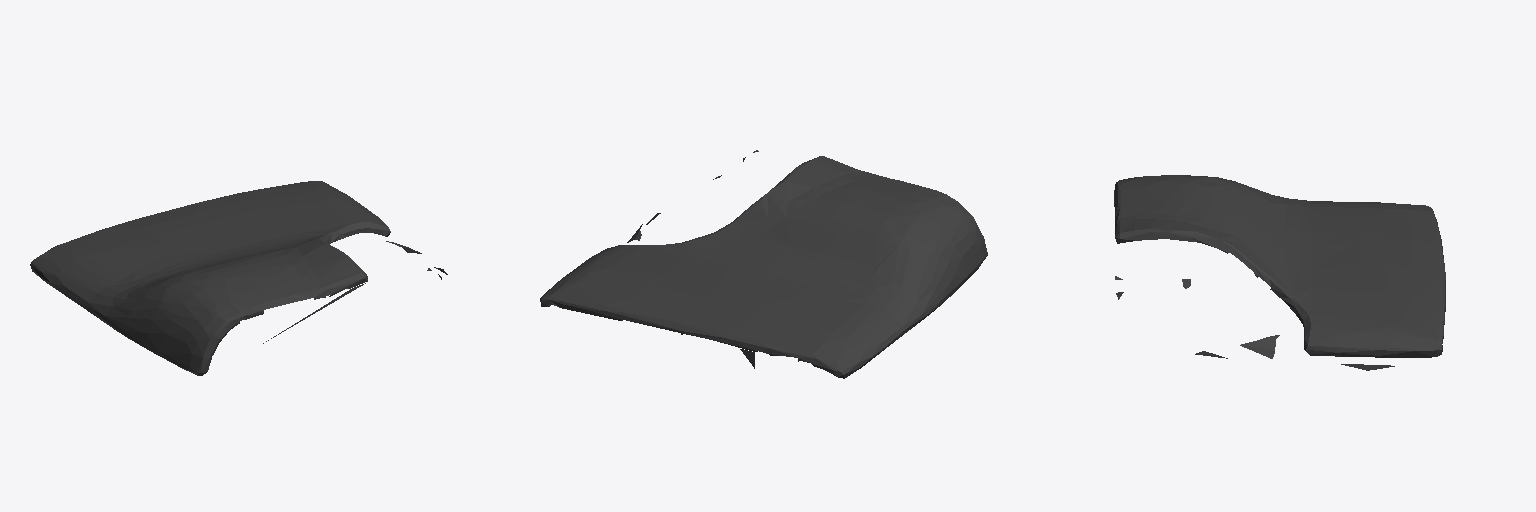
Rendered from inspire_Right_0.obj.
3 views of the same model, side by side, from view 1: azimuth 30°, elevation 25°; view 2: azimuth 150°, elevation 25°; view 3: azimuth 270°, elevation 25° (orthographic).
Bounding box in the file's own units: 0.0799 × 0.0195 × 0.0742.